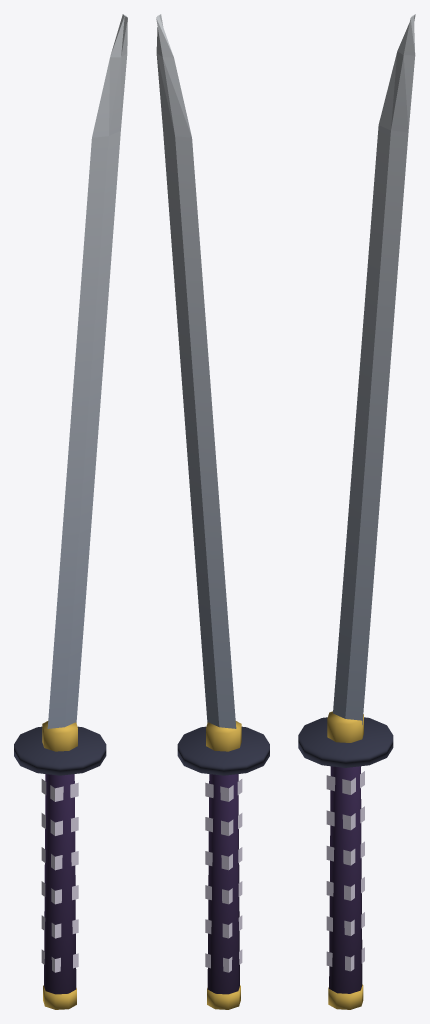
File: katana.glb
3 renders of one model, left to right at view 1: azimuth 30°, elevation 25°; view 2: azimuth 150°, elevation 25°; view 3: azimuth 330°, elevation 25°, orthographic. The views are drawn at different scales.
Parts seen in each view (by area): view 1: katana; view 2: katana; view 3: katana.
Part boxes in pixels (x1,y1,x2,y2): katana: (14,14,127,1009); katana: (156,14,269,1009); katana: (298,14,415,1009).
Size of the model in its own units: 0.1478 by 1.28 by 0.11.
